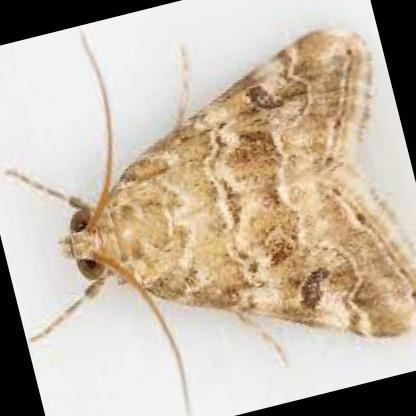Hellula undalis: (0, 17, 416, 403)
